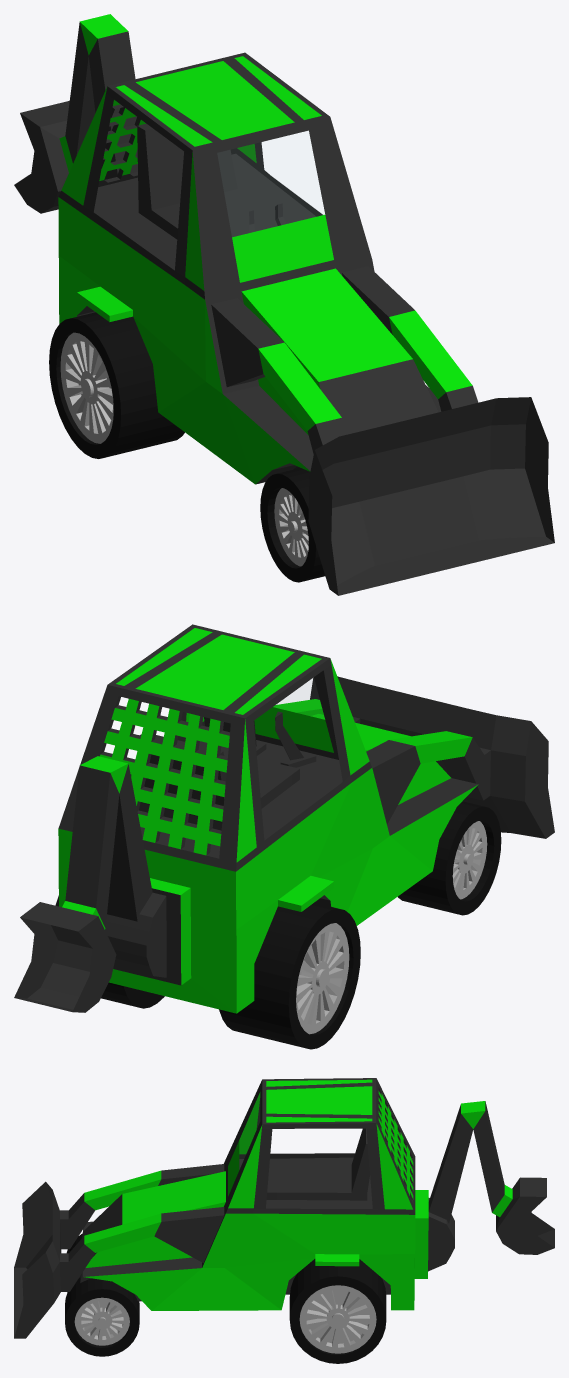
File: tractopelle2.fbx
3 renders of one model, top to bottom at view 1: azimuth 30°, elevation 25°; view 2: azimuth 150°, elevation 25°; view 3: azimuth 270°, elevation 25°, orthographic. The views are drawn at different scales.
Visible parts, largest first — view 1: Tractopelle, RouesArriere, Cube, RoueAvantD; view 2: Tractopelle, Cube, RouesArriere, RoueAvantD; view 3: Tractopelle, RouesArriere, Cube, RoueAvantG.
Part boxes in pixels (bbox=[...]): Tractopelle: bbox=[58, 52, 554, 595]; RouesArriere: bbox=[49, 312, 184, 458]; Cube: bbox=[14, 14, 137, 213]; RoueAvantD: bbox=[260, 468, 325, 582]; Tractopelle: bbox=[58, 624, 554, 1013]; Cube: bbox=[14, 756, 152, 1012]; RouesArriere: bbox=[55, 895, 360, 1049]; RoueAvantD: bbox=[398, 801, 501, 915]; Tractopelle: bbox=[14, 1078, 454, 1338]; RouesArriere: bbox=[289, 1259, 386, 1363]; Cube: bbox=[428, 1101, 554, 1254]; RoueAvantG: bbox=[65, 1278, 139, 1356].
Bounding box in the file's own units: 616 × 827 × 1796.
